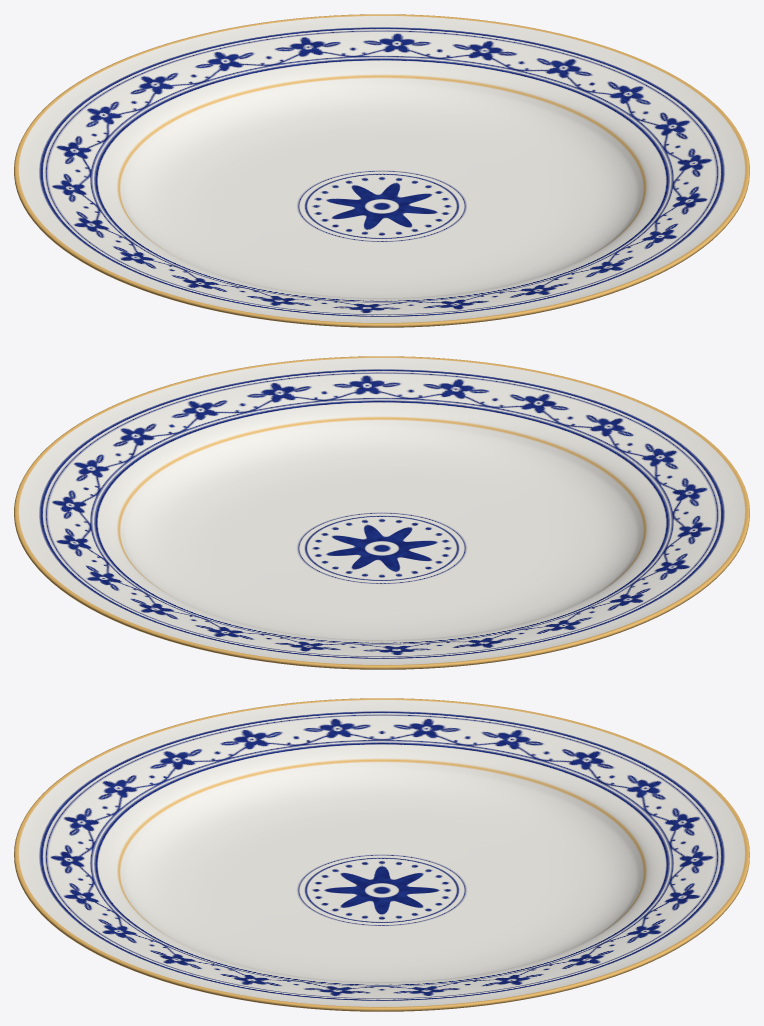
The model's file is platter.glb.
3 views of the same model, one above another, from view 1: azimuth 30°, elevation 25°; view 2: azimuth 150°, elevation 25°; view 3: azimuth 270°, elevation 25° (orthographic).
Parts seen in each view (by area): view 1: platter; view 2: platter; view 3: platter.
Boxes of the visible parts, x1,y1,x2,y2 form: platter: [14, 14, 749, 327]; platter: [14, 356, 749, 669]; platter: [14, 698, 749, 1011].
Size of the model in its own units: 0.3363 by 0.0274 by 0.3363.
1 material, 1 textured.
